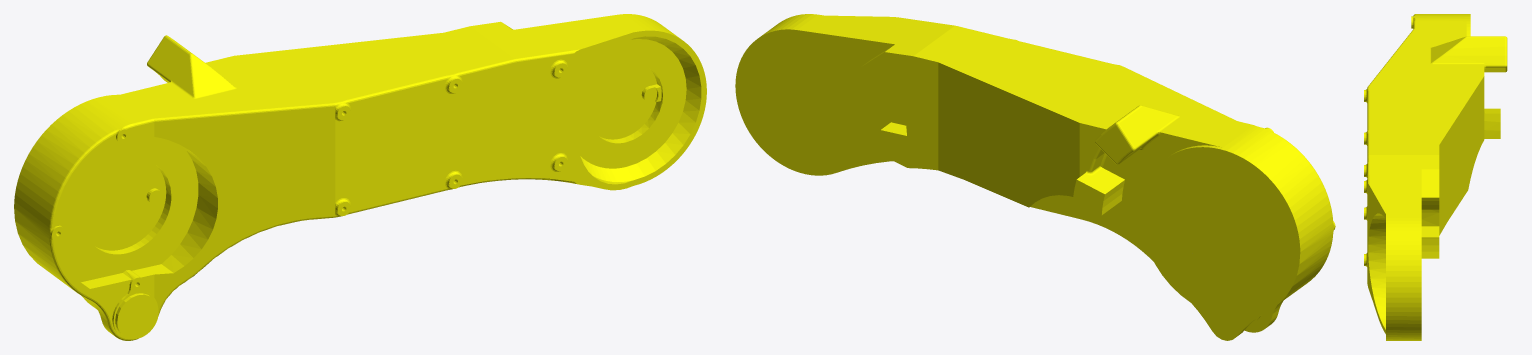
3 views of the same model, side by side, from view 1: azimuth 30°, elevation 25°; view 2: azimuth 150°, elevation 25°; view 3: azimuth 270°, elevation 25° (orthographic). The views are drawn at different scales.
Parts seen in each view (by area): view 1: node; view 2: node; view 3: node.
Part boxes in pixels (left/top/right/bottom): node: left=14, top=14, right=706, bottom=340; node: left=735, top=14, right=1335, bottom=340; node: left=1364, top=14, right=1507, bottom=340.
Size of the model in its own units: 1431 by 515 by 381.
